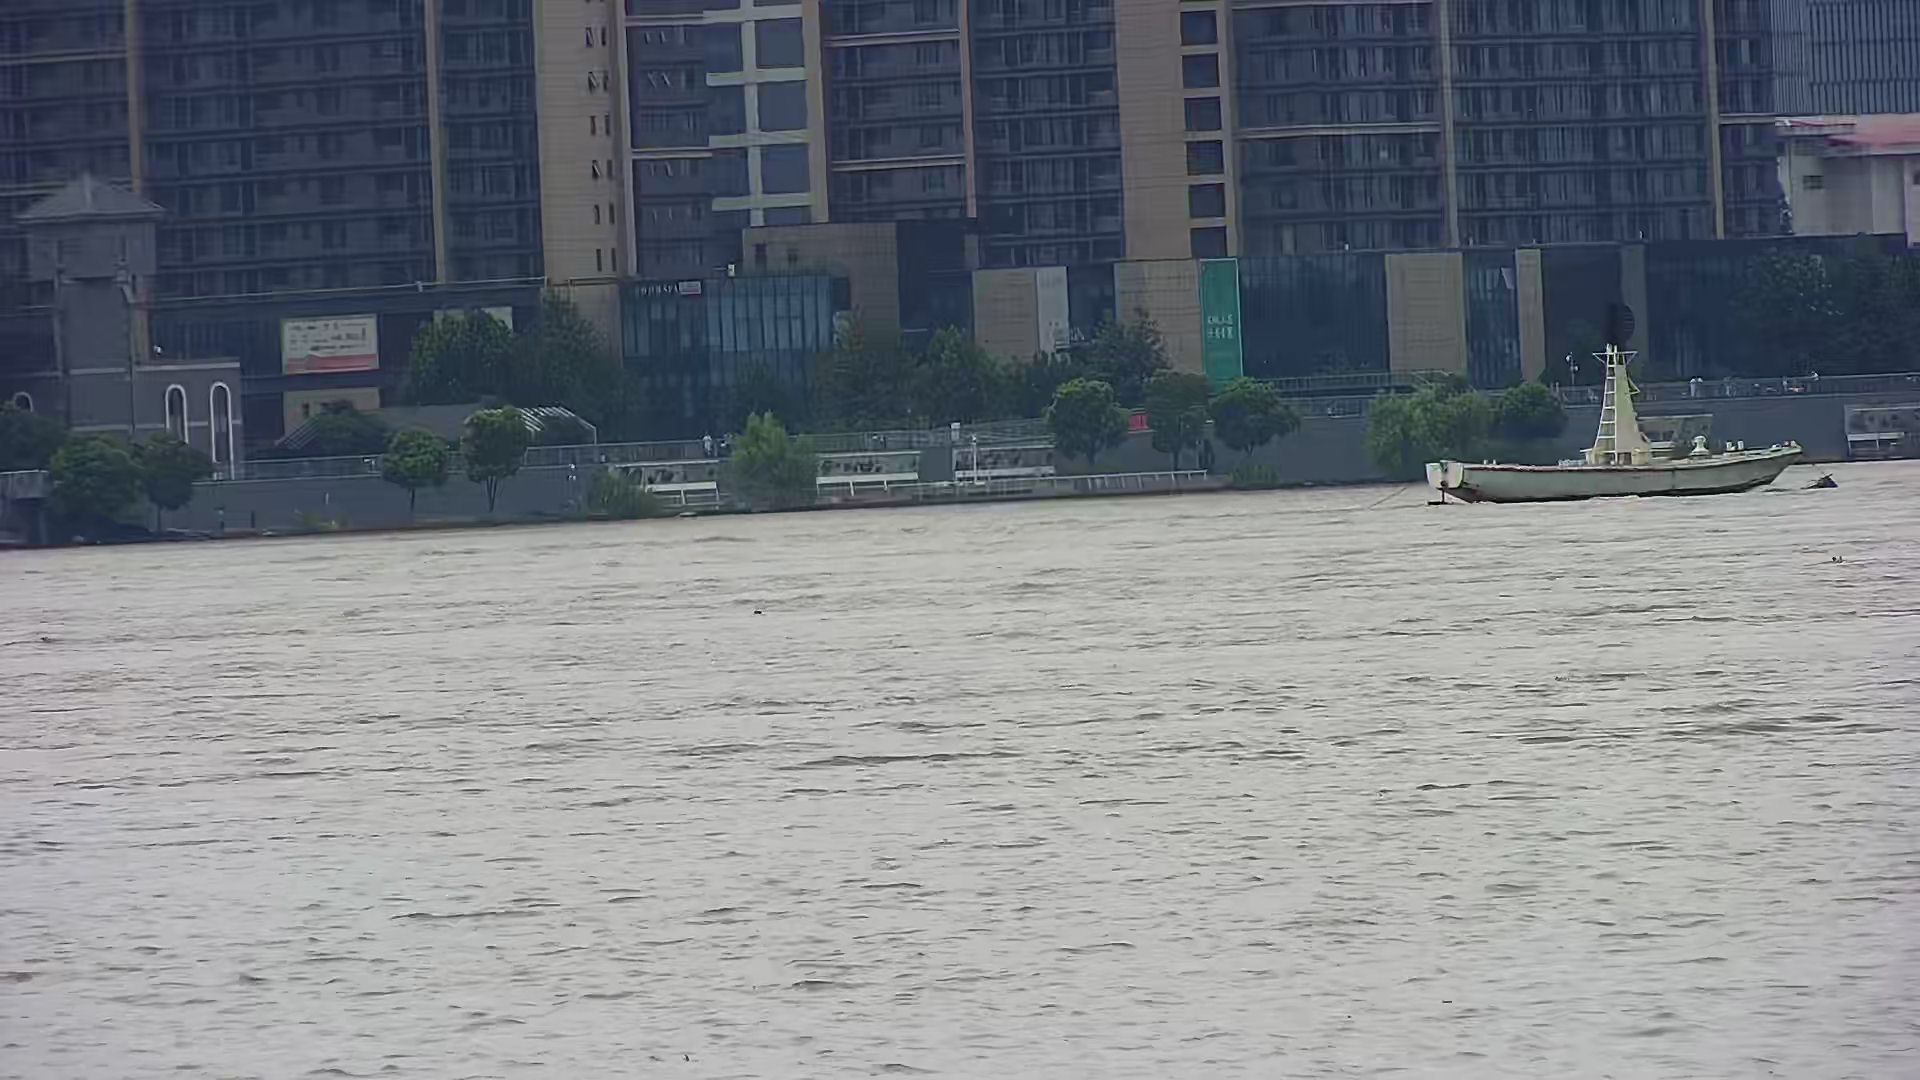boat: (1425, 303, 1800, 506)
